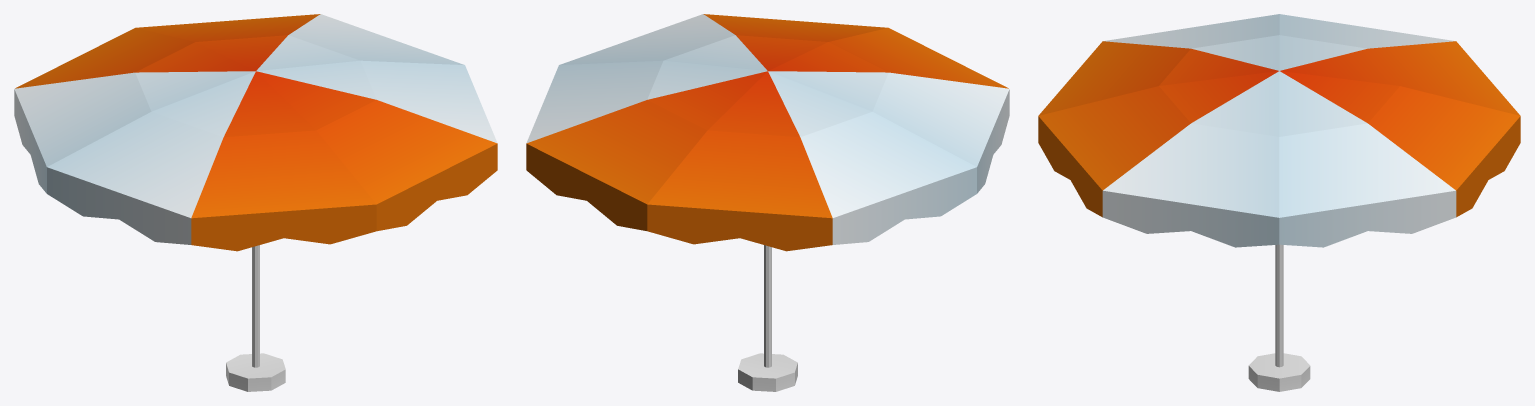
File: BeachGazebo02.fbx
3 renders of one model, left to right at view 1: azimuth 30°, elevation 25°; view 2: azimuth 150°, elevation 25°; view 3: azimuth 270°, elevation 25°, orthographic.
Parts seen in each view (by area): view 1: BeachGazebo02_LOD0; view 2: BeachGazebo02_LOD0; view 3: BeachGazebo02_LOD0.
Part boxes in pixels (x1=…): BeachGazebo02_LOD0: x1=14, y1=14, x2=497, y2=391; BeachGazebo02_LOD0: x1=526, y1=14, x2=1009, y2=391; BeachGazebo02_LOD0: x1=1038, y1=14, x2=1520, y2=391.
Size of what is drawn, in the model's own units: 274 by 193 by 274.
